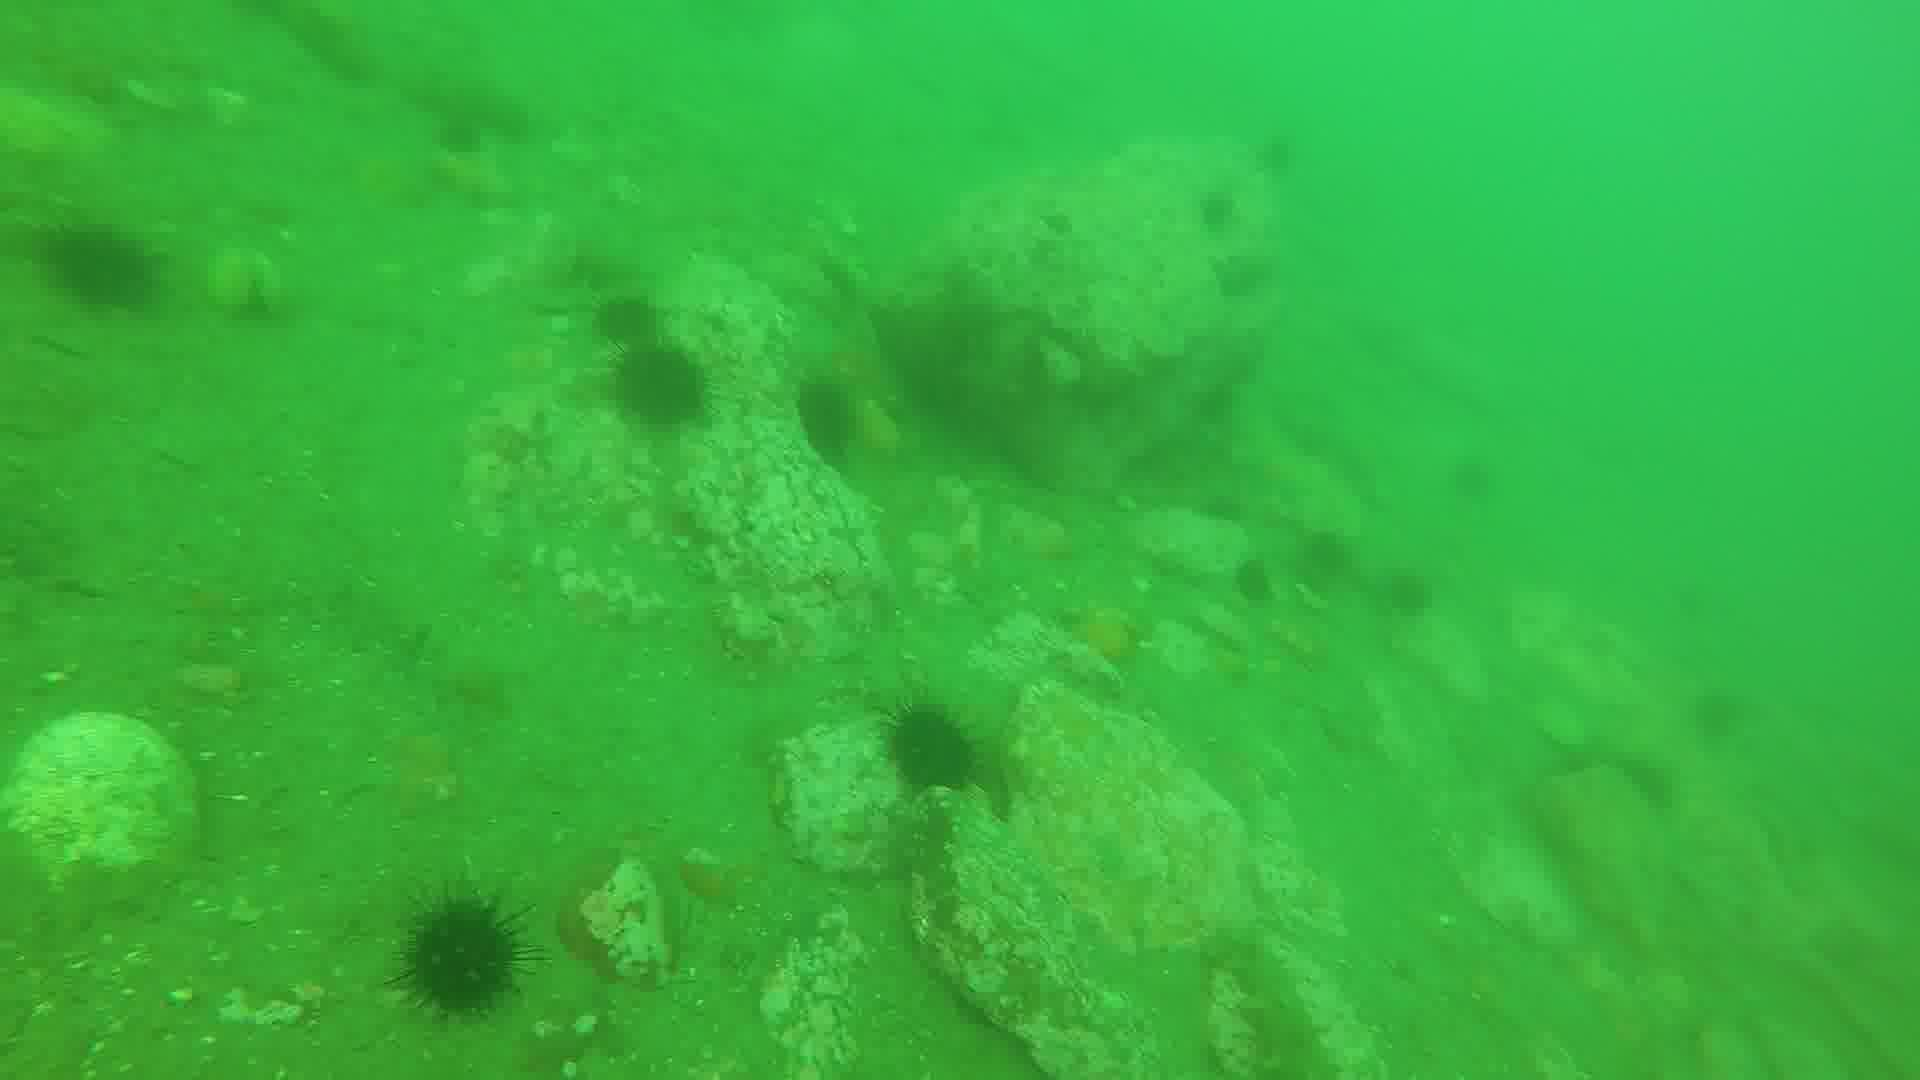echinus: (877, 708, 980, 808), (49, 229, 162, 316), (415, 905, 512, 1006), (608, 345, 711, 435), (802, 373, 862, 462), (1309, 521, 1361, 593), (436, 108, 498, 166), (604, 293, 665, 351), (1377, 574, 1429, 613), (1265, 140, 1312, 181), (1203, 190, 1254, 227), (1246, 556, 1279, 612)
